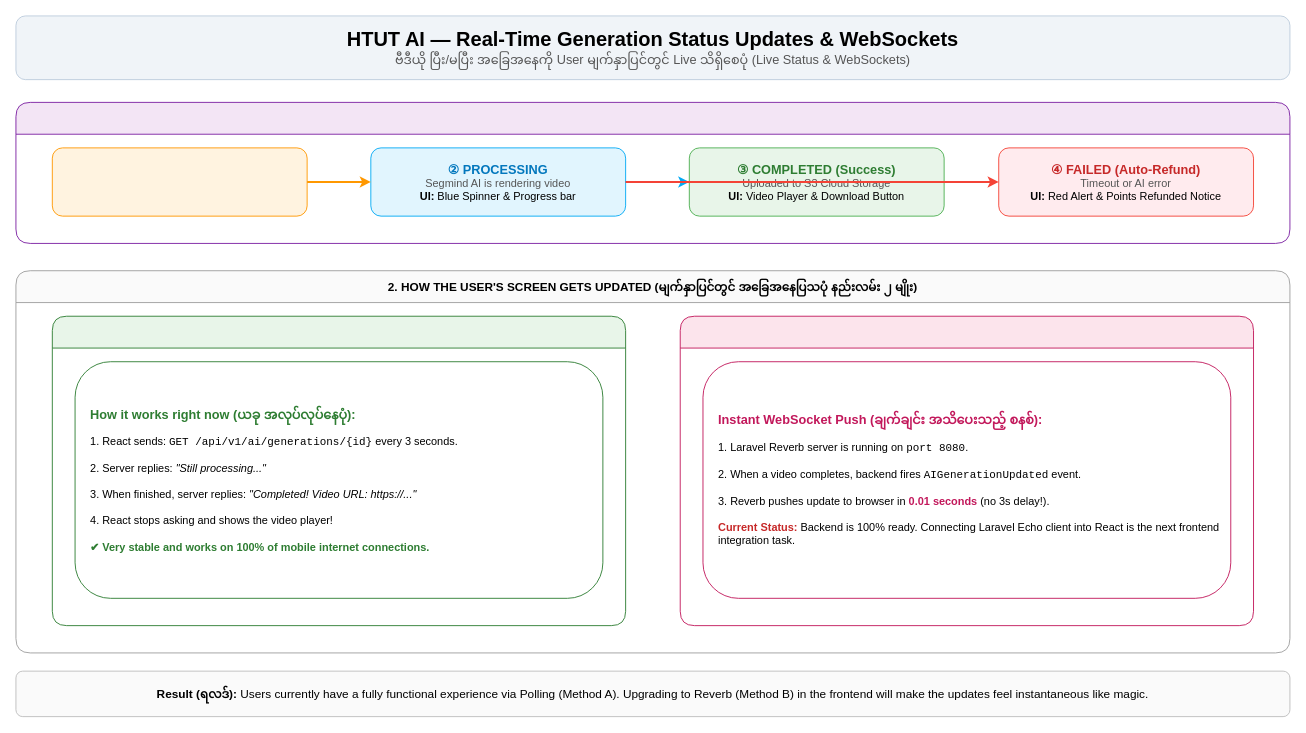
Some shapes in this 1306 by 733 pixel diagram are drawn without their labels. Here are the shapes that lost their labels. From the top down, the box of each, then its label:
(51, 147, 307, 216): ① QUEUED Waiting in Redis Queue UI: Orange "Queued" Badge
(15, 101, 1290, 243): 1. THE 4 GENERATION STATUS STAGES (ဗီဒီယို ပြောင်းလဲမှု အဆင့် ၄ ဆင့်)
(51, 315, 626, 626): METHOD A: STATUS POLLING [CURRENTLY ACTIVE & WORKING]
(679, 315, 1254, 626): METHOD B: REVERB WEBSOCKET PUSH [BACKEND READY • FRONTEND PENDING]
